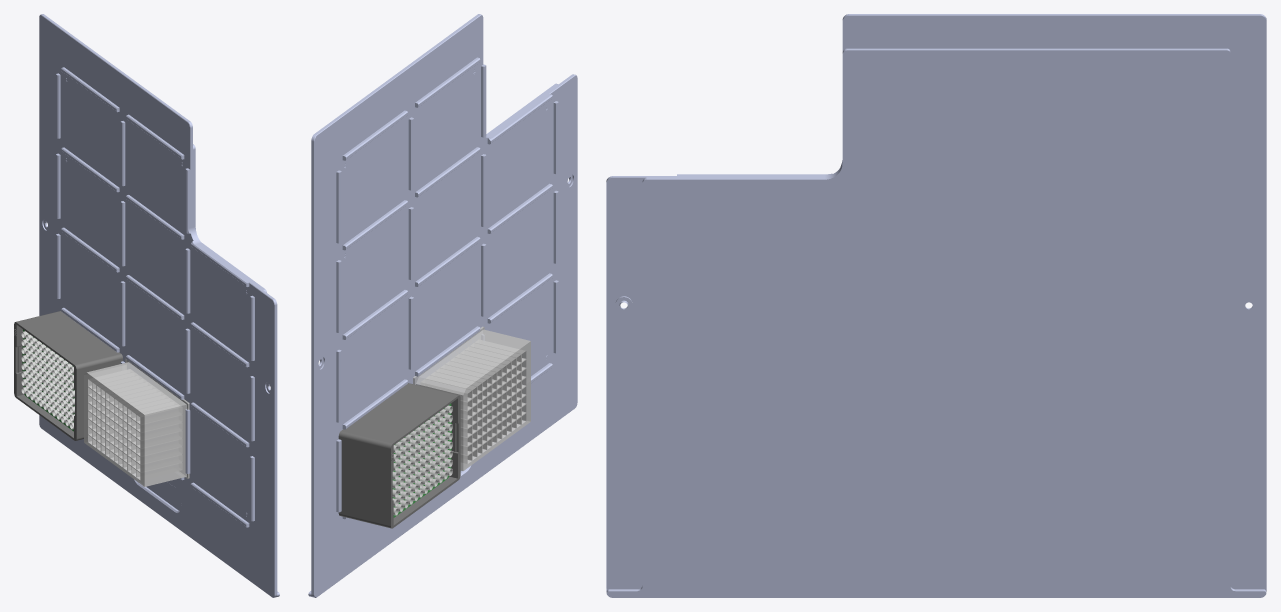
The picture shows the model from 3 angles, left to right: view 1: azimuth 30°, elevation 25°; view 2: azimuth 150°, elevation 25°; view 3: azimuth 270°, elevation 25°; orthographic projection. The views are drawn at different scales.
Parts seen in each view (by area): view 1: base assembly.IGS (×4); view 2: base assembly.IGS (×4); view 3: base assembly.IGS.
Part boxes in pixels (x1=…): base assembly.IGS (×4): x1=14, y1=14, x2=279, y2=597; base assembly.IGS (×4): x1=308, y1=14, x2=577, y2=597; base assembly.IGS: x1=606, y1=14, x2=1266, y2=597.
Size of the model in its own units: 0.0616 by 0.4673 by 0.482.
